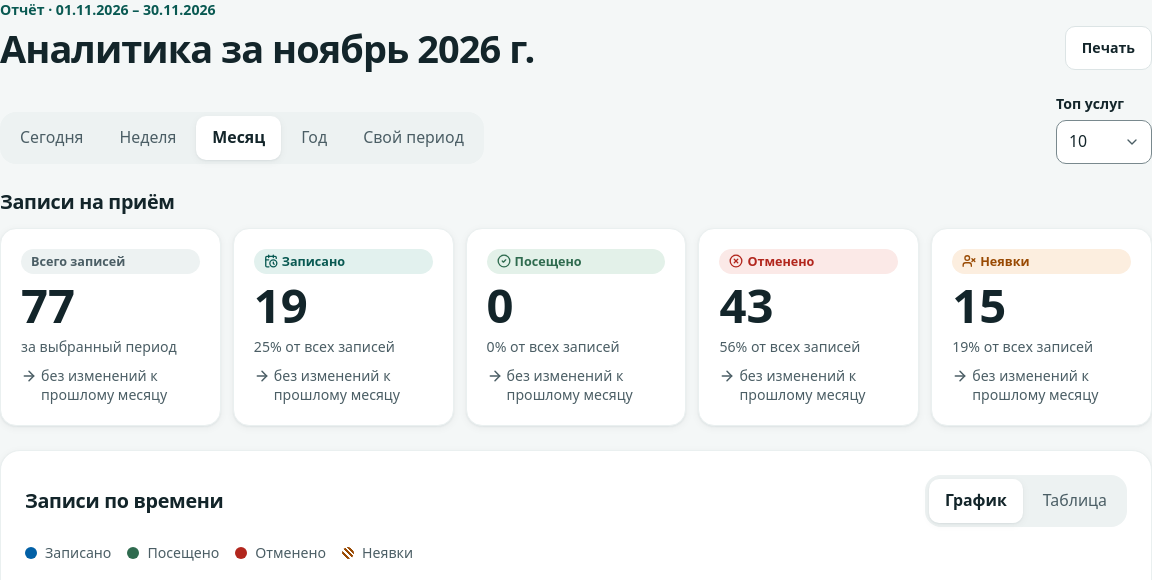
Test case: AnalyticsPanel › should request the week and write it to the address when the quick period «Неделя» is chosen, without any apply button
expect the heading "Записи на приём" is shown: met, box [0,188,175,215]
Click the button "Неделя" at (148, 138), box [104,116,192,160]
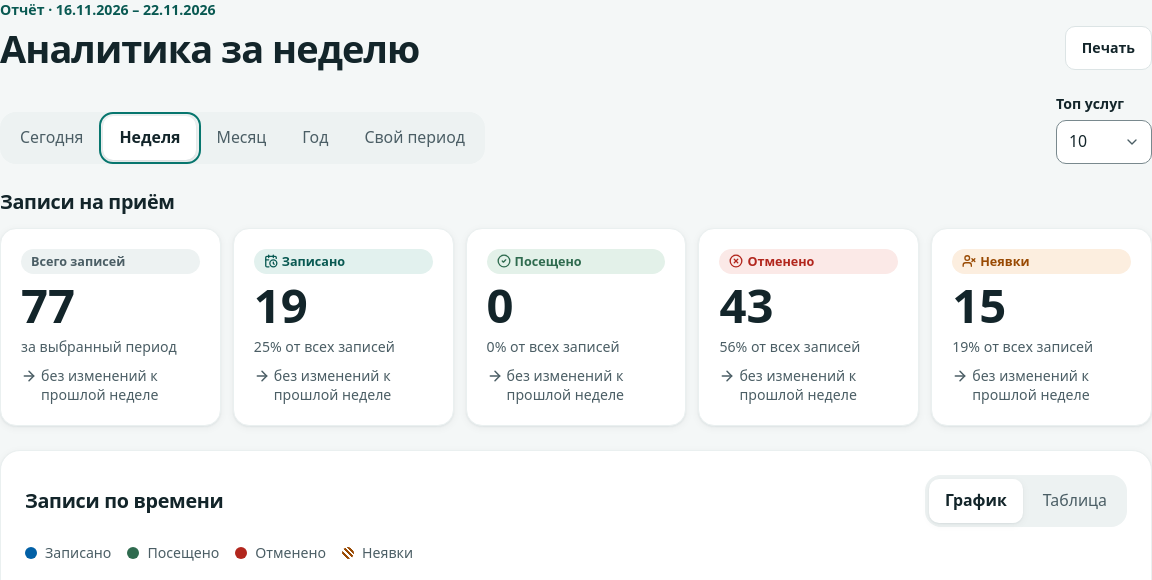
expect the heading "Аналитика за неделю" is shown: met, box [0,26,419,70]
